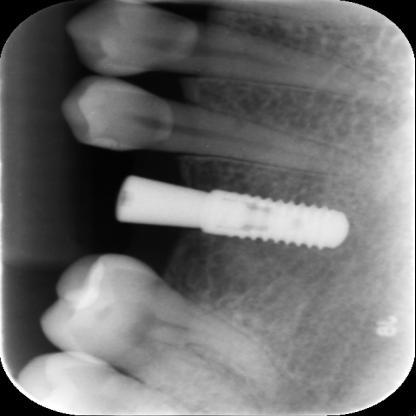ITI: (178, 183, 360, 257)
